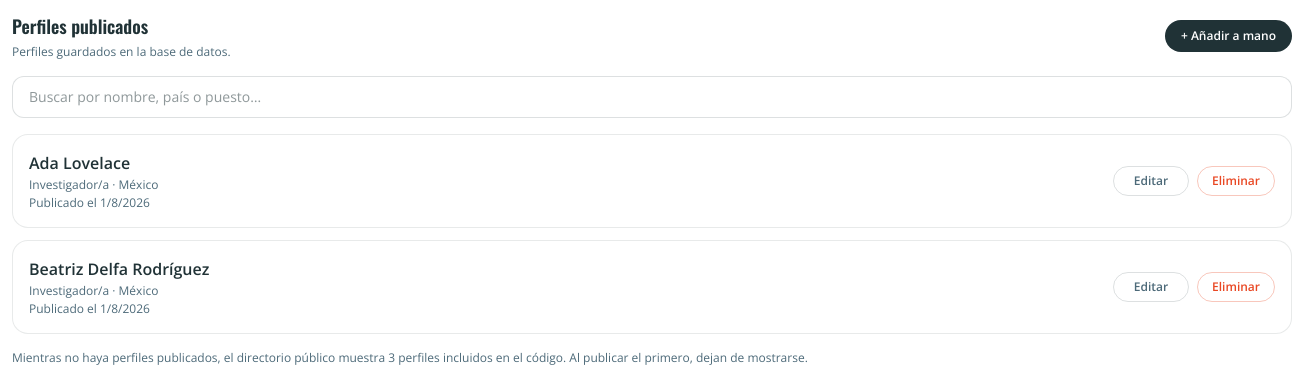
Scenario: MembersEditor › filters the published list by name
In the search field named "Buscar perfiles": (652, 97) x1=12 y1=76 x2=1292 y2=118, type "beatriz"
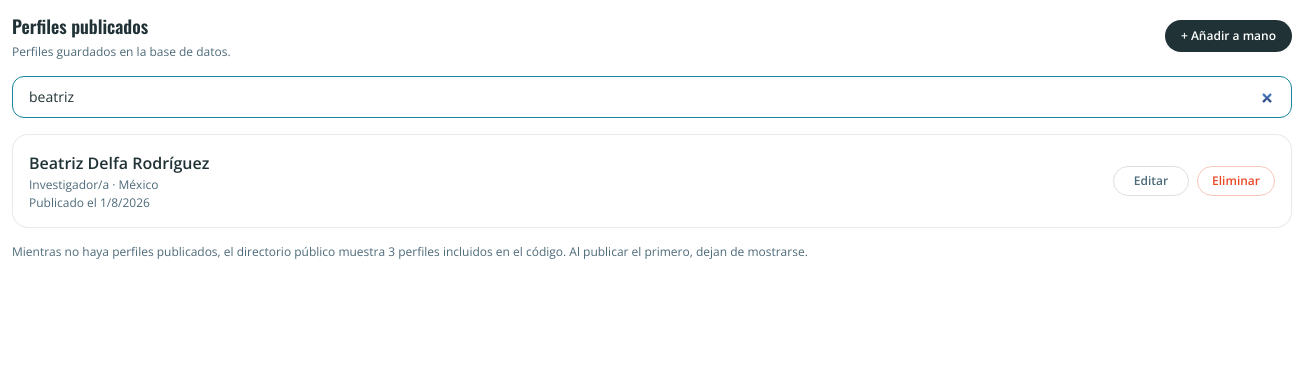
Expected: the text "Beatriz Delfa Rodríguez" is shown, x1=29 y1=151 x2=209 y2=175
Result: the text "Ada Lovelace" is gone
